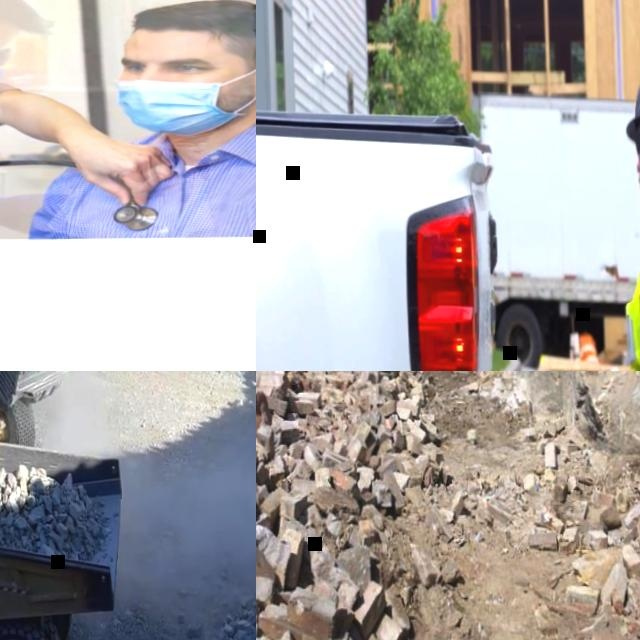Hardhat: (623, 59, 640, 143)
Mask: (115, 74, 227, 138)
NO-Hardhat: (123, 0, 256, 55)
Person: (32, 0, 256, 242), (0, 0, 153, 243)
Safety Cone: (579, 333, 597, 361)
machinery: (0, 380, 132, 640)
vehicle: (256, 99, 589, 371)
